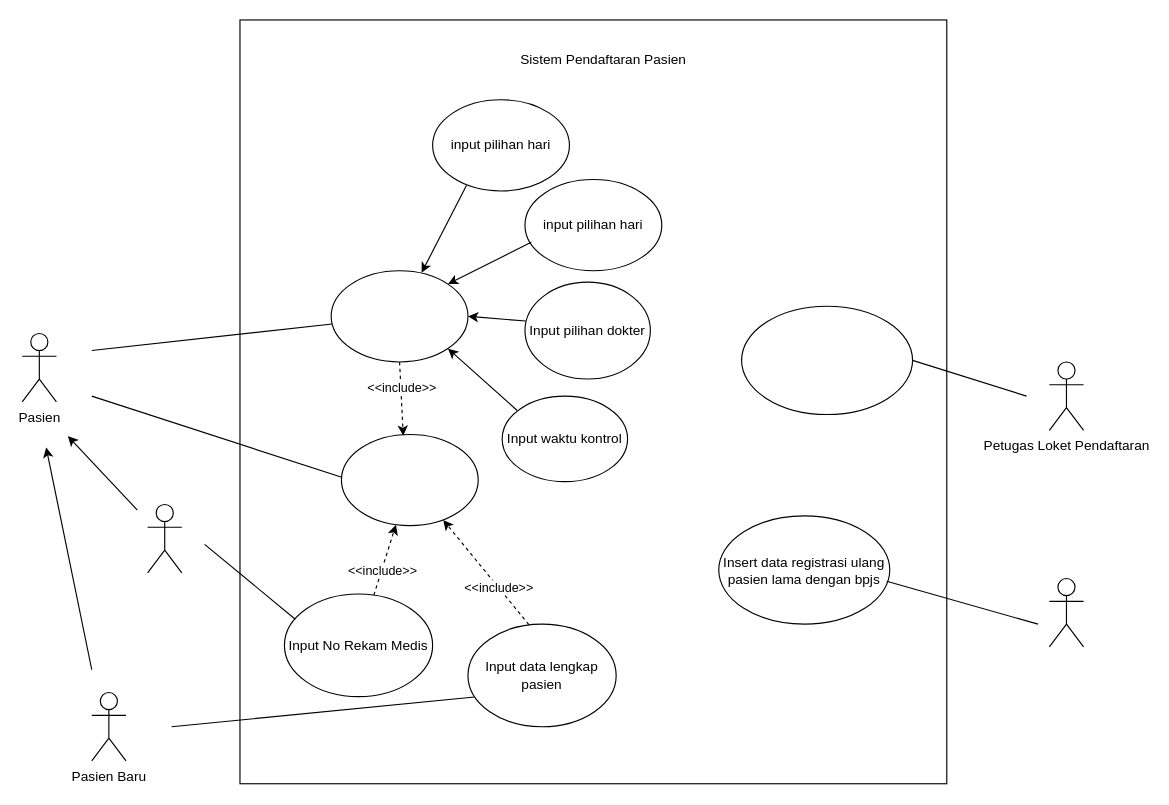
This 1169x805 diagram has some shape labels left out. Here are the shapes that lost their labels. From the top down, the box of each, then its label:
(330, 270, 468, 362): Input data
(740, 305, 913, 415): Input data registrasi ulang pasien
(340, 433, 478, 526): Pilih pasien baru atau lama
(146, 503, 182, 573): Pasien Lama
(1048, 577, 1084, 647): Mesin APM
